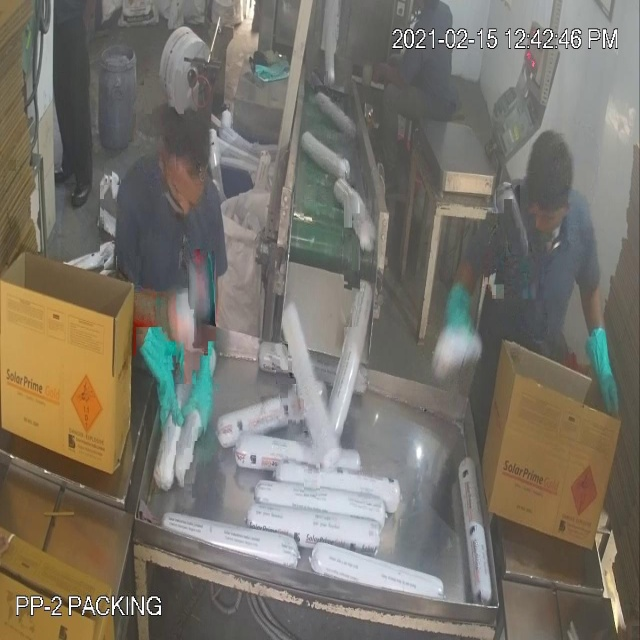Guantes: (134, 298, 178, 443), (584, 310, 624, 428), (186, 332, 221, 451)
Sin_guantes: (366, 52, 426, 98)
